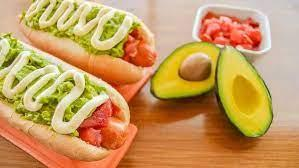Completos: (0, 31, 125, 160), (22, 0, 146, 92)
